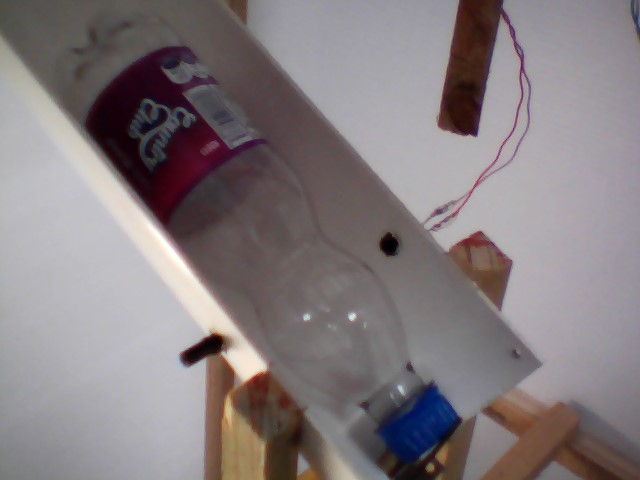plastico: (48, 7, 461, 462)
